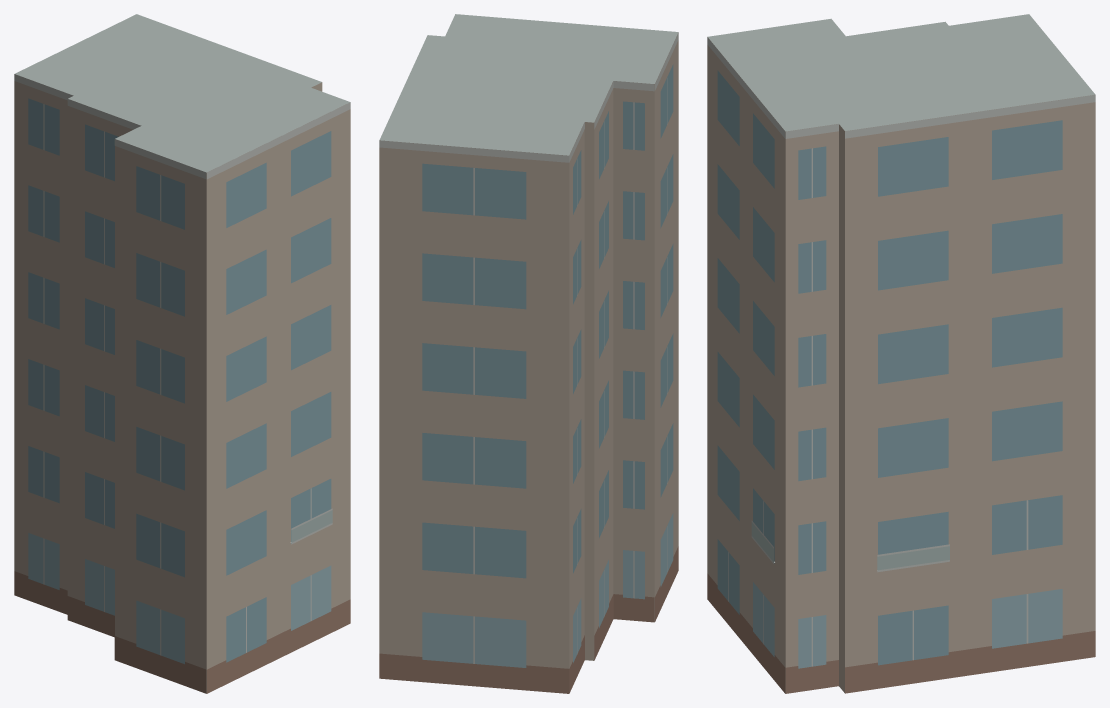
The model's file is survey-upis-33016961.glb.
3 views of the same model, side by side, from view 1: azimuth 30°, elevation 25°; view 2: azimuth 150°, elevation 25°; view 3: azimuth 270°, elevation 25° (orthographic). The views are drawn at different scales.
Visible parts, largest first — view 1: survey-upis-33016961.tmp; view 2: survey-upis-33016961.tmp; view 3: survey-upis-33016961.tmp.
Part boxes in pixels (left/top/right/bottom): survey-upis-33016961.tmp: left=14, top=14, right=350, bottom=693; survey-upis-33016961.tmp: left=379, top=14, right=678, bottom=693; survey-upis-33016961.tmp: left=707, top=14, right=1095, bottom=693.
Size of the model in its own units: 8.21 by 18.3 by 11.46.
